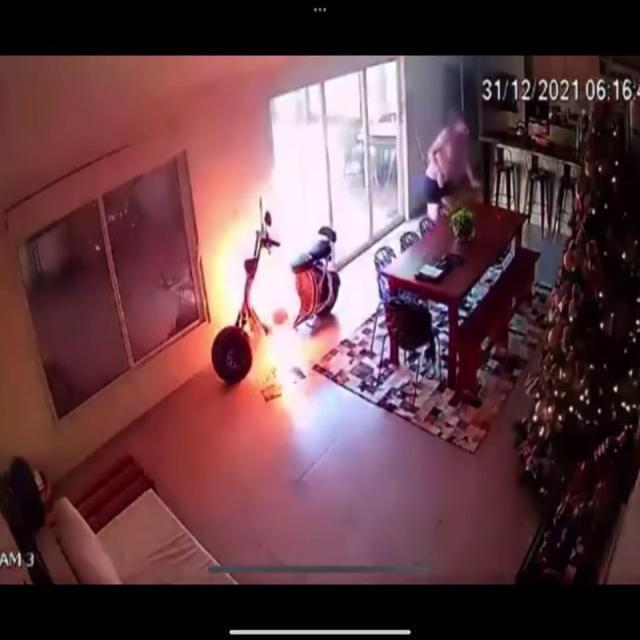Fire: (198, 174, 318, 388)
